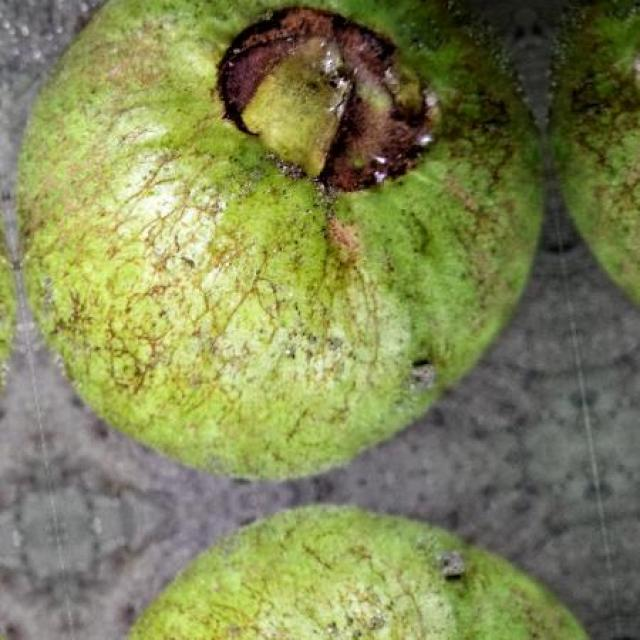Scab: (19, 0, 540, 477)
